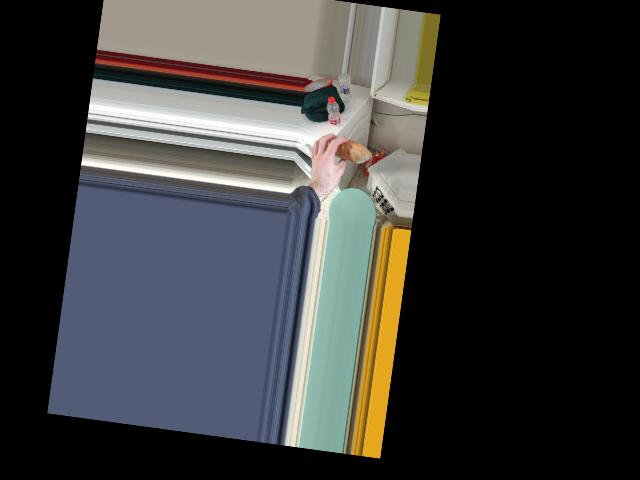sweet_potato: (329, 139, 364, 159)
